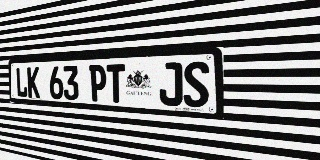3: (63, 65, 79, 100)
6: (49, 66, 64, 100)
J: (159, 62, 183, 106)
K: (27, 67, 40, 98)
L: (16, 67, 28, 98)
P: (89, 65, 107, 102)
S: (183, 61, 209, 108)
T: (107, 64, 126, 103)
